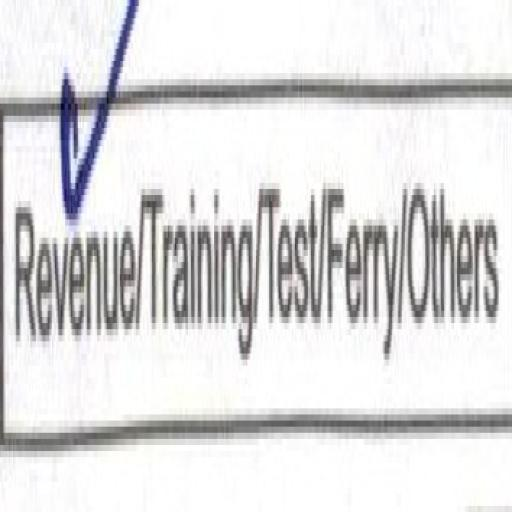check: (0, 0, 147, 430)
